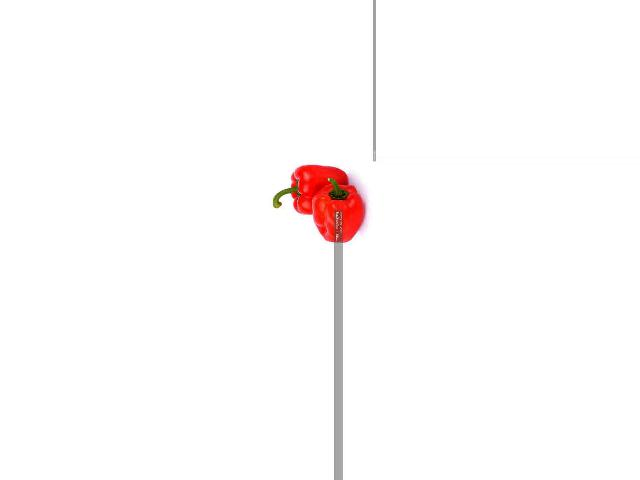bell_pepper: (307, 179, 363, 250)
